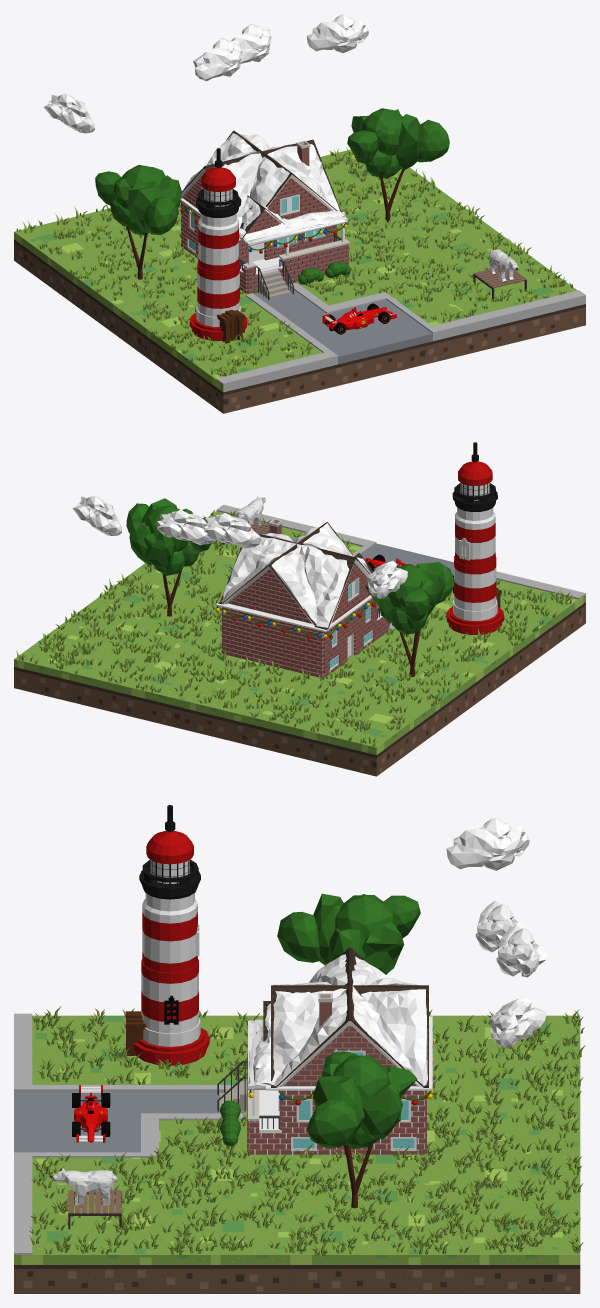
The picture shows the model from 3 angles, top to bottom: view 1: azimuth 30°, elevation 25°; view 2: azimuth 150°, elevation 25°; view 3: azimuth 270°, elevation 25°; orthographic projection. The views are drawn at different scales.
Visible parts, largest first — view 1: Cube.006, Circle.012_Grass_0.192, Cube.1419, OBJRANDOM_LIGHTHOUSE, Cube.007, tree, tree.001, VEHICLES_FORMULA_1, ANIMAL_OSO_POLAR, Cube.009; view 2: Cube.006, Cube.1419, Circle.012_Grass_0.192, OBJRANDOM_LIGHTHOUSE, Cube.007, tree.001, tree, ANIMAL_OSO_POLAR; view 3: Cube.006, Circle.012_Grass_0.192, Cube.1419, OBJRANDOM_LIGHTHOUSE, tree, Cube.007, tree.001, VEHICLES_FORMULA_1, ANIMAL_OSO_POLAR, Cube.009.
Boxes of the visible parts, left/top/right/bottom form: Cube.006: left=14, top=149, right=585, bottom=413; Circle.012_Grass_0.192: left=16, top=147, right=573, bottom=376; Cube.1419: left=179, top=130, right=349, bottom=300; OBJRANDOM_LIGHTHOUSE: left=189, top=148, right=247, bottom=343; Cube.007: left=44, top=14, right=368, bottom=133; tree: left=347, top=108, right=449, bottom=222; tree.001: left=95, top=165, right=181, bottom=279; VEHICLES_FORMULA_1: left=322, top=303, right=396, bottom=334; ANIMAL_OSO_POLAR: left=489, top=249, right=518, bottom=282; Cube.009: left=473, top=267, right=526, bottom=299; Cube.006: left=14, top=505, right=585, bottom=776; Cube.1419: left=215, top=518, right=389, bottom=677; Circle.012_Grass_0.192: left=16, top=510, right=572, bottom=746; OBJRANDOM_LIGHTHOUSE: left=446, top=442, right=503, bottom=634; Cube.007: left=72, top=495, right=407, bottom=599; tree.001: left=365, top=562, right=454, bottom=676; tree: left=126, top=498, right=211, bottom=616; ANIMAL_OSO_POLAR: left=236, top=496, right=265, bottom=526; Cube.006: left=14, top=1013, right=580, bottom=1293; Circle.012_Grass_0.192: left=29, top=1006, right=585, bottom=1256; Cube.1419: left=217, top=947, right=432, bottom=1154; OBJRANDOM_LIGHTHOUSE: left=126, top=805, right=209, bottom=1065; tree: left=307, top=1051, right=417, bottom=1208; Cube.007: left=446, top=817, right=546, bottom=1048; tree.001: left=277, top=893, right=420, bottom=974; VEHICLES_FORMULA_1: left=72, top=1085, right=110, bottom=1142; ANIMAL_OSO_POLAR: left=49, top=1168, right=117, bottom=1205; Cube.009: left=68, top=1190, right=121, bottom=1229.
Size of the model in its own units: 4071 by 2291 by 4040.
Materials: 45 (3 with a texture image).
